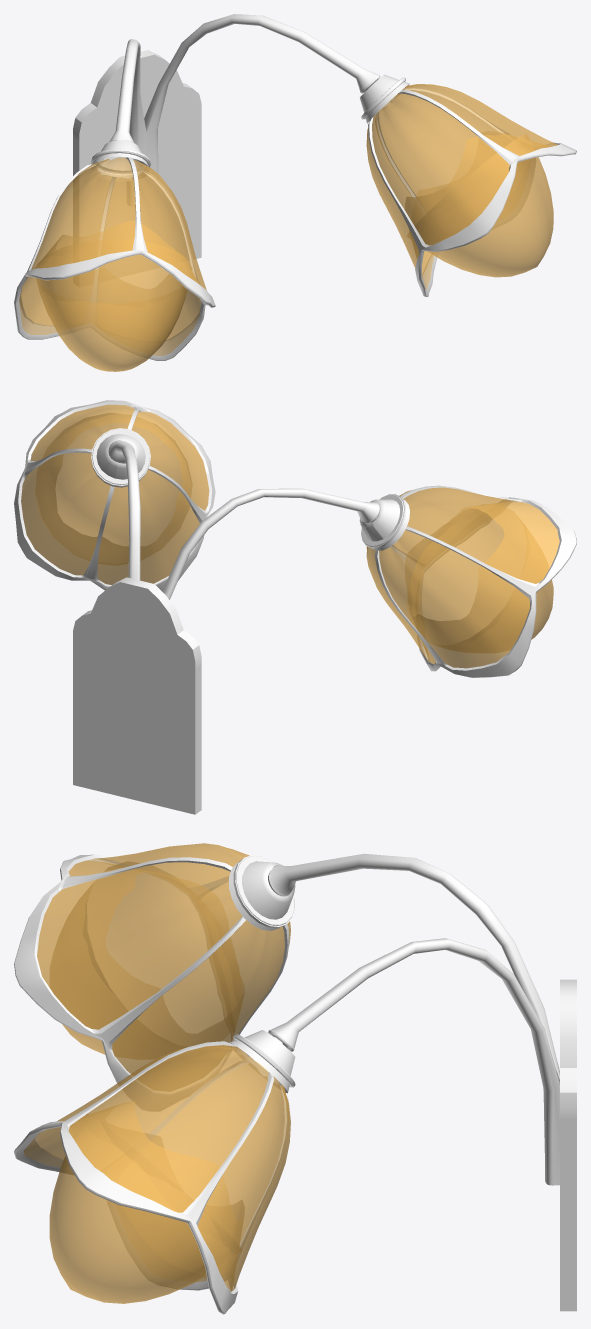
File: lamp_2.fbx
3 views of the same model, one above another, from view 1: azimuth 30°, elevation 25°; view 2: azimuth 150°, elevation 25°; view 3: azimuth 270°, elevation 25° (orthographic). The views are drawn at different scales.
Visible parts, largest first — view 1: Lamp; view 2: Lamp; view 3: Lamp.
Part boxes in pixels (x1,y1,x2,y2): Lamp: (14, 14, 576, 371); Lamp: (14, 400, 576, 814); Lamp: (14, 843, 576, 1314).
Bounding box in the file's own units: 7.93 × 4.03 × 5.54.
